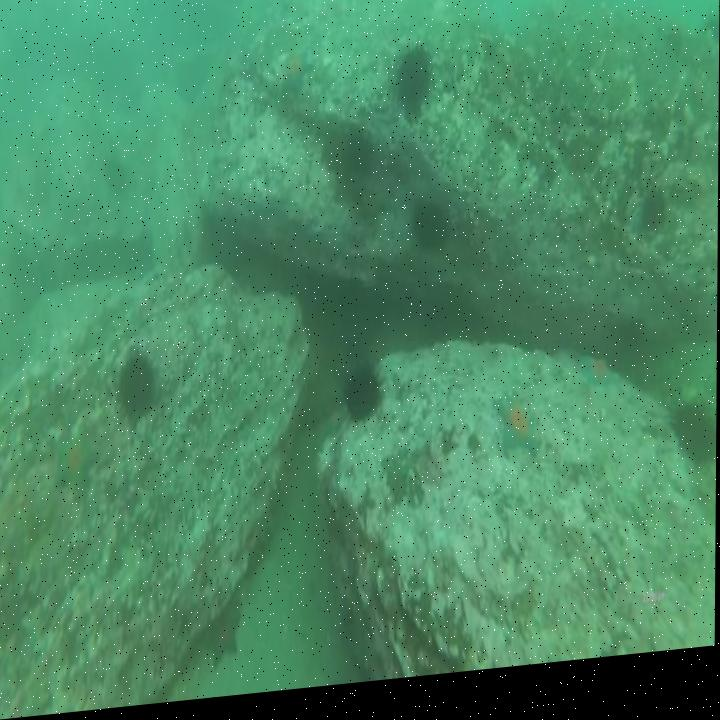echinus: (337, 352, 390, 441), (116, 346, 163, 436), (391, 43, 435, 134), (674, 400, 717, 489), (333, 129, 379, 197), (412, 197, 453, 267), (636, 192, 673, 256)
starfish: (492, 402, 545, 477), (54, 426, 101, 507), (203, 611, 243, 675), (578, 361, 624, 411), (279, 51, 314, 105)
